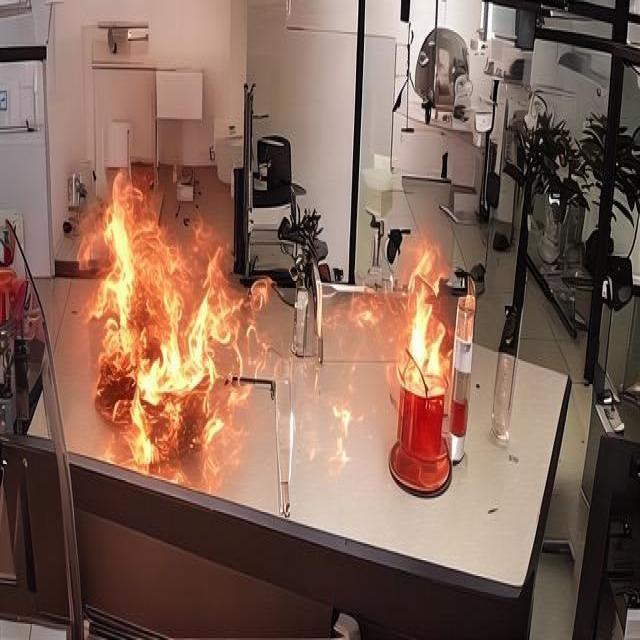smoke: (92, 176, 234, 466), (388, 258, 450, 409)
